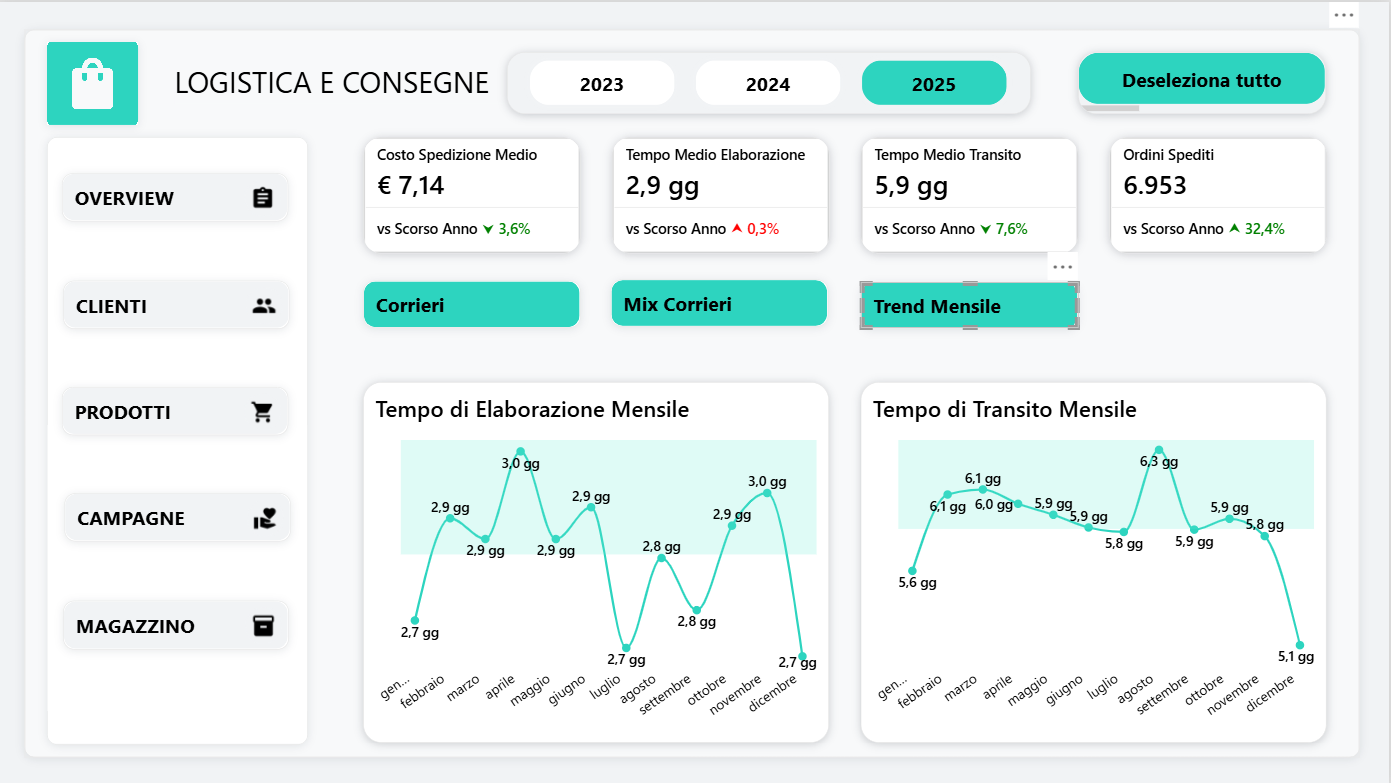

This screenshot's page, from the dashboard's own definition file:
{"tool":"powerbi","page":{"name":"Logistica","canvas":[1920,1080],"ordinal":4},"visuals":[{"type":"shape","box":[38.2,38.2,1841.8,1003.6],"z":0},{"type":"shape","box":[69.1,185.5,360,838.2],"z":1000},{"type":"actionButton","box":[89.1,236.4,312,66],"z":2000},{"type":"actionButton","box":[91.5,383.6,312,66],"z":3000},{"type":"actionButton","box":[90.3,530.9,312,66],"z":4000},{"type":"actionButton","box":[92.7,678.2,312,66],"z":5000},{"type":"actionButton","box":[91.5,825.5,310.9,67.3],"z":6000},{"type":"image","box":[69.1,54.5,125.5,114.5],"z":7000},{"type":"textbox","title":"LOGISTICA E CONSEGNE","box":[244,83.2,821.6,57.9],"z":8000},{"type":"advancedSlicerVisual","fields":{"Values":["Data.Anno"]},"box":[704,68.8,722.1,85.5],"z":9000},{"type":"advancedSlicerVisual","fields":{"Values":["gold dim_corriere.corriere"]},"box":[1491.2,68.8,341.9,85.5],"z":10000},{"type":"cardVisual","fields":{"Data":["gold dim_corriere.Costo Spedizione Medio"]},"box":[504.9,185.8,300,161.1],"z":11000},{"type":"cardVisual","fields":{"Data":["gold dim_corriere.Tempo Medio Elaborazione"]},"box":[848,185.9,300,161.1],"z":12000},{"type":"cardVisual","fields":{"Data":["gold dim_corriere.Tempo Medio Transito"]},"box":[1191.1,186.1,300,161.1],"z":13000},{"type":"cardVisual","fields":{"Data":["gold dim_corriere.Ordini Spediti"]},"box":[1534.2,186.2,300,161.1],"z":14000},{"type":"actionButton","box":[504.9,383.6,299.8,65.2],"z":15000},{"type":"tableEx","title":"Costo, tempo e convenienza per corriere","fields":{"Values":["gold dim_corriere.corriere","gold dim_corriere.Costo Spedizione Medio","gold dim_corriere.vs Scorso Anno Costo Spedizione Medio","gold dim_corriere.Tempo Medio Transito","gold dim_corriere.vs Scorso Anno Tempo Transito","gold dim_corriere.Costo per Giorno Transito","gold dim_corriere.vs Scorso Anno Costo per Giorno","gold dim_corriere.Ordini Spediti","gold dim_corriere.vs Scorso Anno Ordini Spediti"]},"box":[504.9,530.2,1330.1,492.2],"z":16000},{"type":"actionButton","box":[847.2,383.6,299.8,65.2],"z":17000},{"type":"actionButton","box":[1191.6,385.4,299.8,65.2],"z":18000}]}

Visuals, with their boxes in screenshot pixels (x1, y1, x2, y2), scaled from the page's 1920x1080 canvas onto the 1391x783 screenshot:
shape: left=28, top=28, right=1362, bottom=755
shape: left=50, top=134, right=311, bottom=742
actionButton: left=65, top=171, right=291, bottom=219
actionButton: left=66, top=278, right=292, bottom=326
actionButton: left=65, top=385, right=291, bottom=433
actionButton: left=67, top=492, right=293, bottom=540
actionButton: left=66, top=598, right=292, bottom=647
image: left=50, top=40, right=141, bottom=123
"LOGISTICA E CONSEGNE" textbox: left=177, top=60, right=772, bottom=102
advancedSlicerVisual - Data.Anno: left=510, top=50, right=1033, bottom=112
advancedSlicerVisual - gold dim_corriere.corriere: left=1080, top=50, right=1328, bottom=112
cardVisual - gold dim_corriere.Costo Spedizione Medio: left=366, top=135, right=583, bottom=252
cardVisual - gold dim_corriere.Tempo Medio Elaborazione: left=614, top=135, right=832, bottom=252
cardVisual - gold dim_corriere.Tempo Medio Transito: left=863, top=135, right=1080, bottom=252
cardVisual - gold dim_corriere.Ordini Spediti: left=1111, top=135, right=1329, bottom=252
actionButton: left=366, top=278, right=583, bottom=325
"Costo, tempo e convenienza per corriere" tableEx: left=366, top=384, right=1329, bottom=741
actionButton: left=614, top=278, right=831, bottom=325
actionButton: left=863, top=279, right=1080, bottom=327
